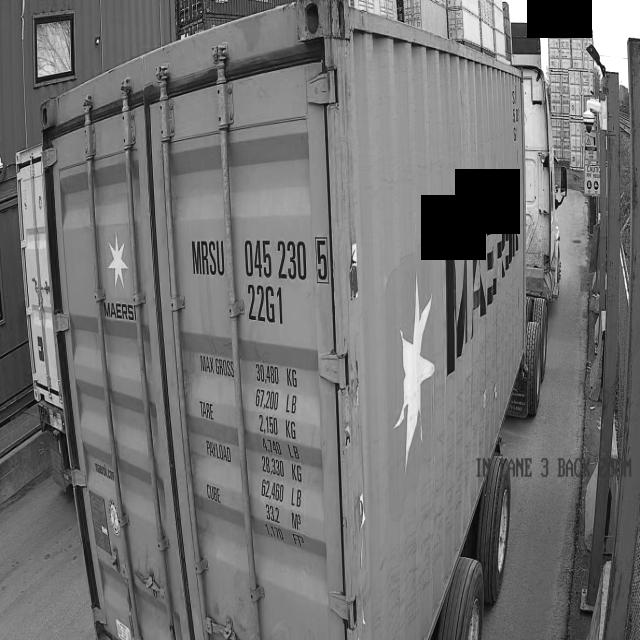container_company_logo: (100, 218, 140, 322)
container_number: (183, 226, 328, 330)
other_container_info: (187, 338, 310, 557)
truck_with_container: (42, 0, 566, 640)
